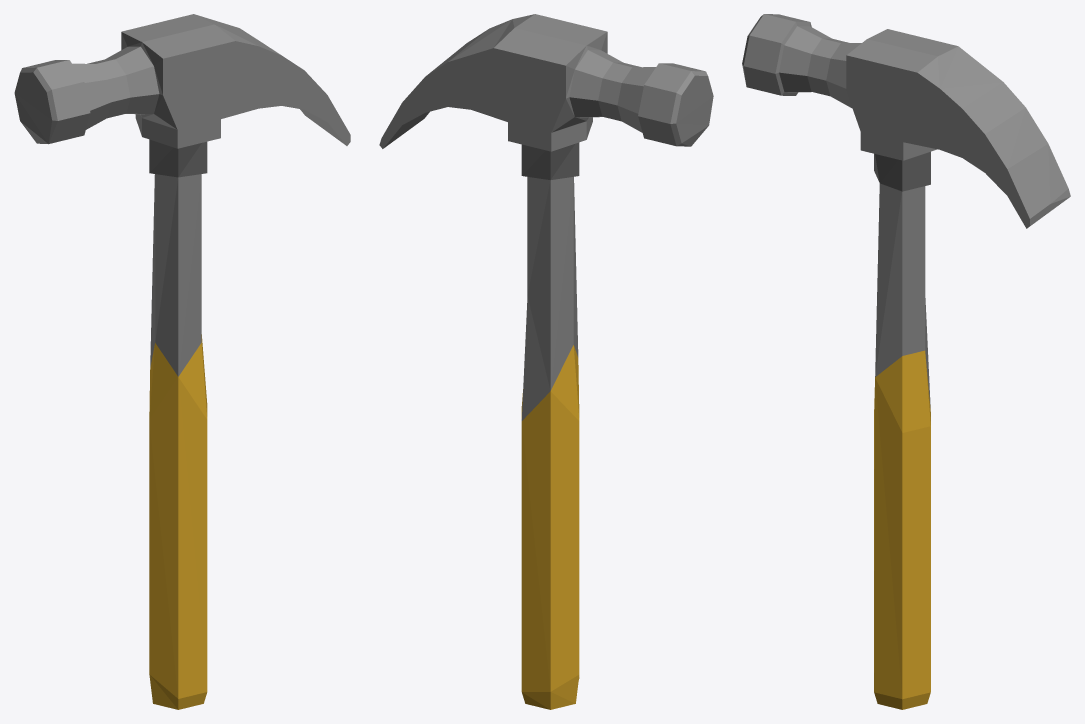
Rendered from hammer_0.FBX.
3 views of the same model, side by side, from view 1: azimuth 30°, elevation 25°; view 2: azimuth 150°, elevation 25°; view 3: azimuth 330°, elevation 25° (orthographic). The views are drawn at different scales.
Visible parts, largest first — view 1: hammer_low_poly; view 2: hammer_low_poly; view 3: hammer_low_poly.
Part boxes in pixels (x1,y1,x2,y2): hammer_low_poly: (14,14,350,709); hammer_low_poly: (379,14,713,709); hammer_low_poly: (742,14,1070,709).
Bounding box in the file's own units: 64.3 × 138 × 15.75.
Materials: 1 (1 with a texture image).
